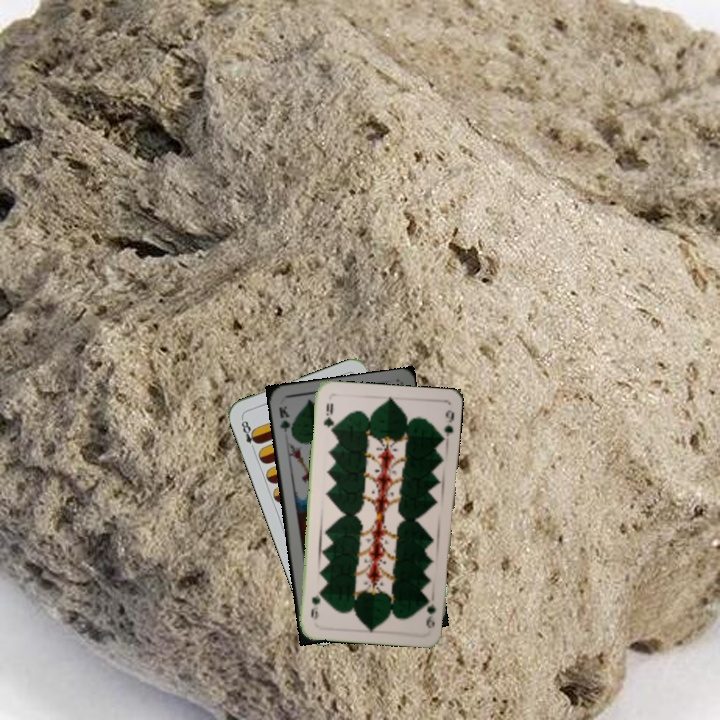E8: (237, 414, 261, 453)
G9: (422, 593, 438, 631), (319, 399, 336, 434)
GK: (275, 402, 296, 439)
